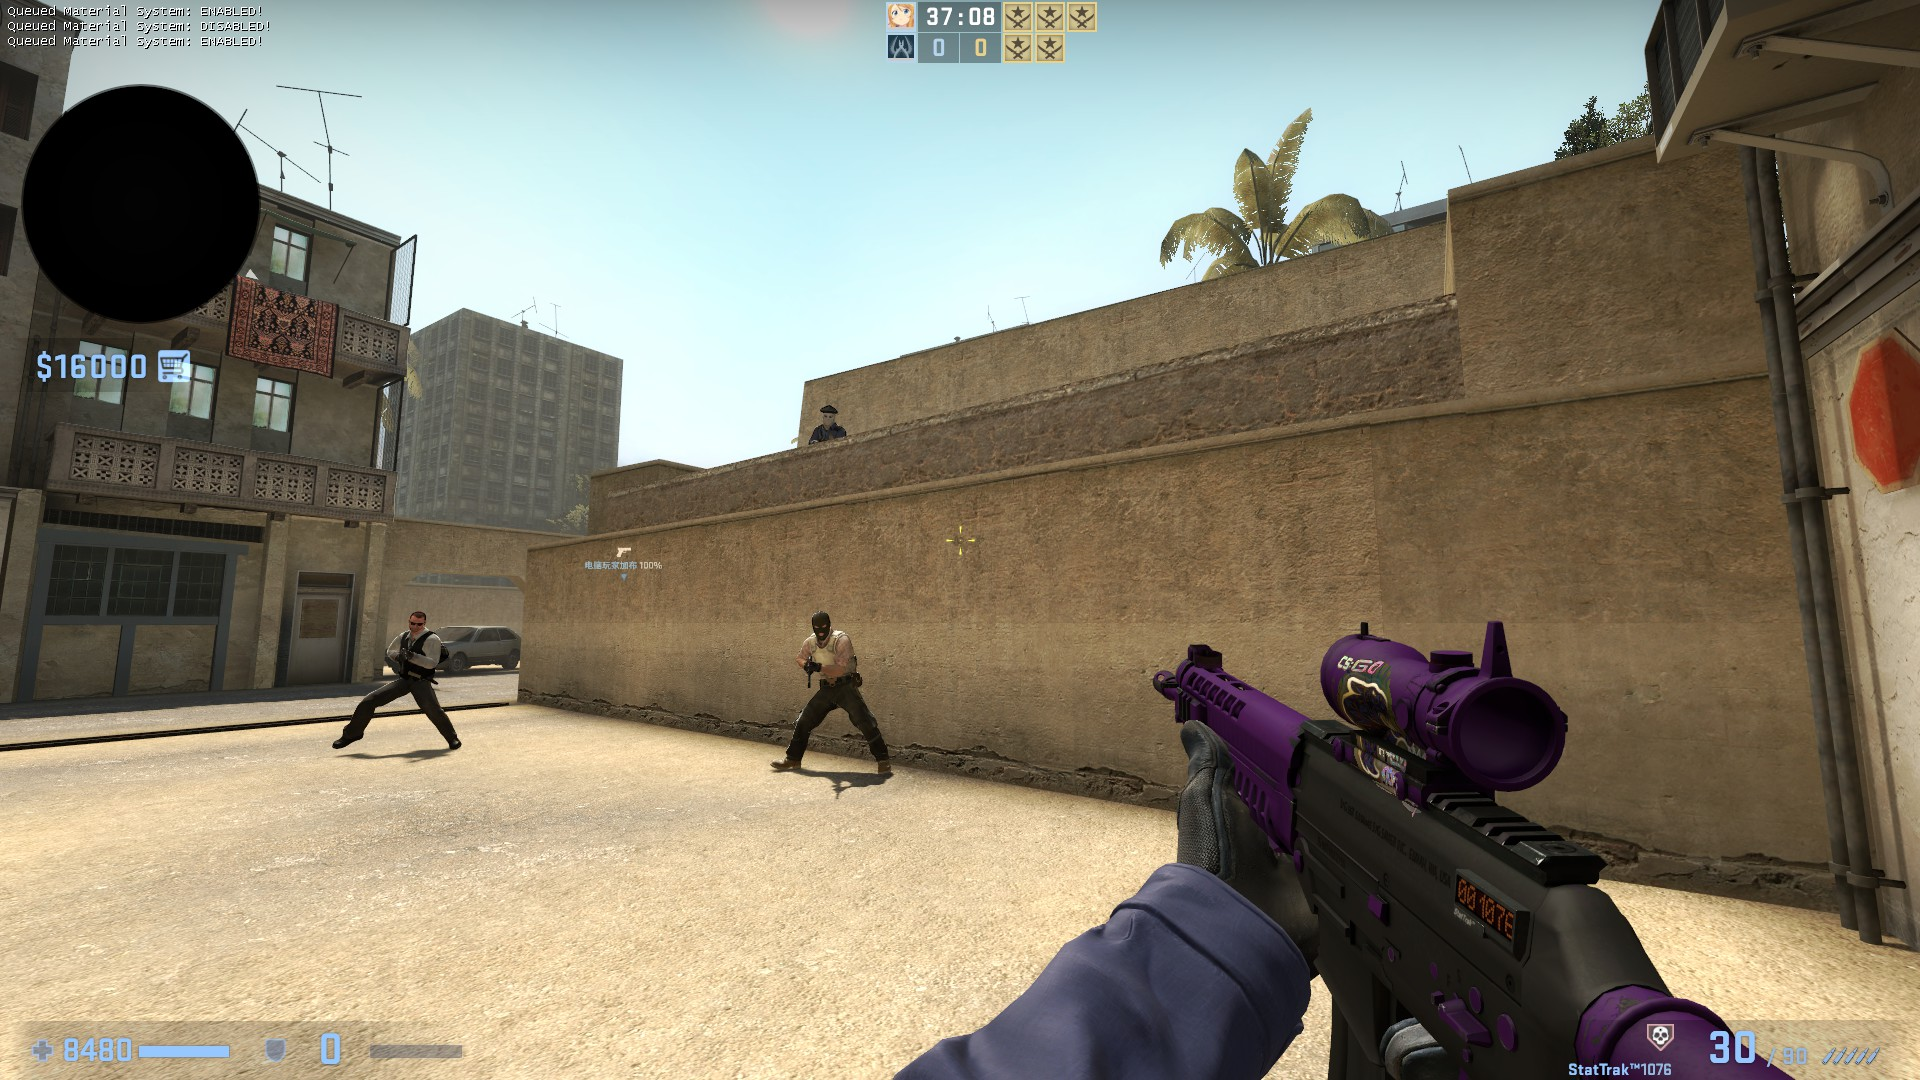head: (809, 610, 833, 644), (816, 402, 838, 428), (406, 609, 425, 633)
